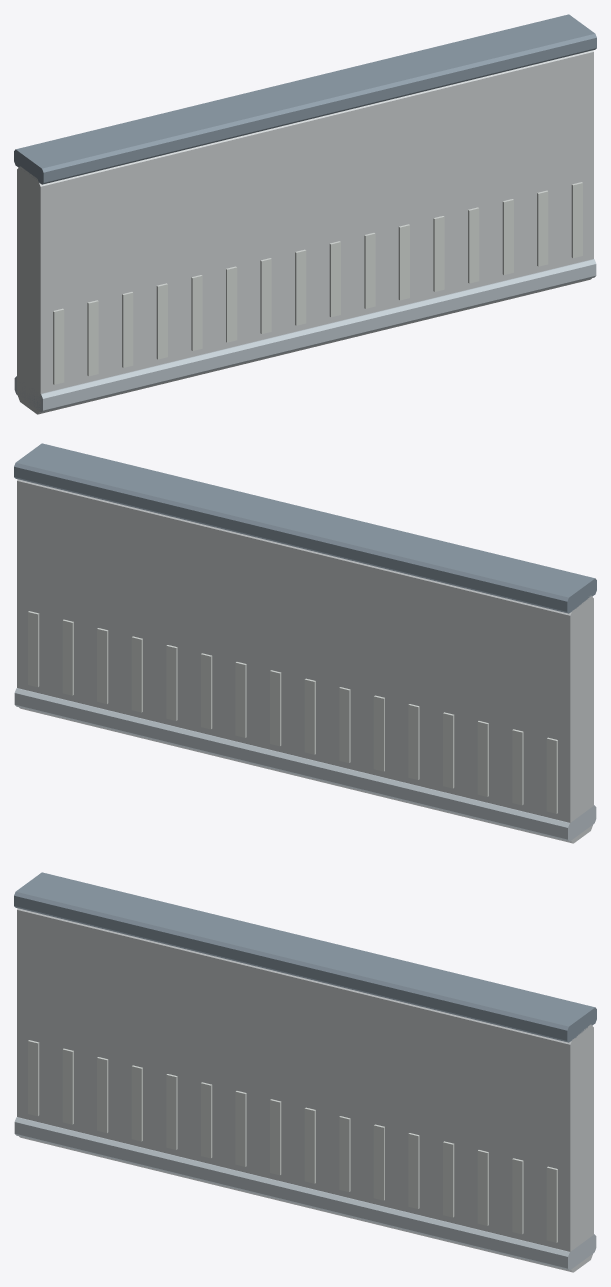
Rendered from wall_hospital_recovery.glb.
3 renders of one model, top to bottom at view 1: azimuth 30°, elevation 25°; view 2: azimuth 150°, elevation 25°; view 3: azimuth 330°, elevation 25°, orthographic.
Visible parts, largest first — view 1: Part_001, Part_002, Part_003, Part_015, Part_025, Part_011, Part_013, Part_023, Part_027, Part_035, Part_005, Part_007 (+7 smaller); view 2: Part_001, Part_002, Part_003, Part_014, Part_024, Part_010, Part_012, Part_022, Part_026, Part_034, Part_004, Part_006 (+7 smaller); view 3: Part_001, Part_002, Part_003, Part_015, Part_025, Part_005, Part_013, Part_017, Part_027, Part_029, Part_007, Part_011 (+7 smaller).
Part boxes in pixels (<box>): Part_001: <box>17,50,593,414</box>; Part_002: <box>14,14,596,184</box>; Part_003: <box>14,259,596,412</box>; Part_015: <box>226,266,237,342</box>; Part_025: <box>398,224,409,300</box>; Part_011: <box>156,283,167,359</box>; Part_013: <box>191,275,202,350</box>; Part_023: <box>364,233,375,308</box>; Part_027: <box>433,216,444,291</box>; Part_035: <box>571,182,582,258</box>; Part_005: <box>53,308,64,384</box>; Part_007: <box>87,300,98,376</box>; Part_001: <box>17,479,593,843</box>; Part_002: <box>14,443,596,613</box>; Part_003: <box>14,688,596,841</box>; Part_014: <box>373,695,384,771</box>; Part_024: <box>201,653,212,729</box>; Part_010: <box>443,712,454,788</box>; Part_012: <box>408,704,419,779</box>; Part_022: <box>235,662,246,737</box>; Part_026: <box>166,645,177,720</box>; Part_034: <box>28,611,39,687</box>; Part_004: <box>546,737,557,813</box>; Part_006: <box>512,729,523,805</box>; Part_001: <box>17,908,593,1272</box>; Part_002: <box>14,872,596,1042</box>; Part_003: <box>14,1117,596,1270</box>; Part_015: <box>201,1082,212,1158</box>; Part_025: <box>373,1124,384,1200</box>; Part_005: <box>28,1040,39,1116</box>; Part_013: <box>166,1074,177,1149</box>; Part_017: <box>235,1091,246,1166</box>; Part_027: <box>408,1133,419,1208</box>; Part_029: <box>443,1141,454,1217</box>; Part_007: <box>62,1048,73,1124</box>; Part_011: <box>131,1065,142,1141</box>.
Bounding box in the file's own units: 2.7 × 1.16 × 0.25.
